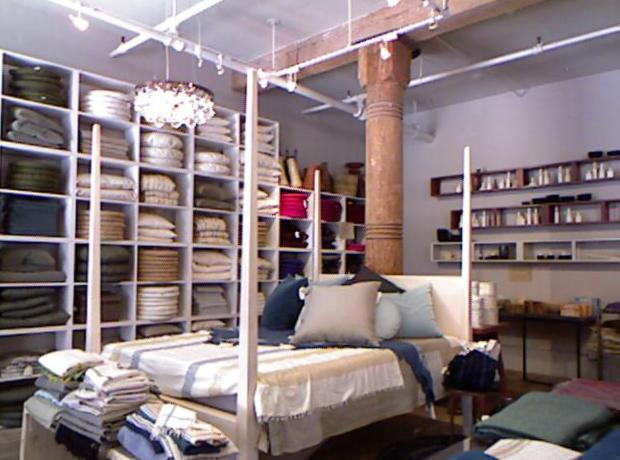Cama: (71, 274, 467, 454)
